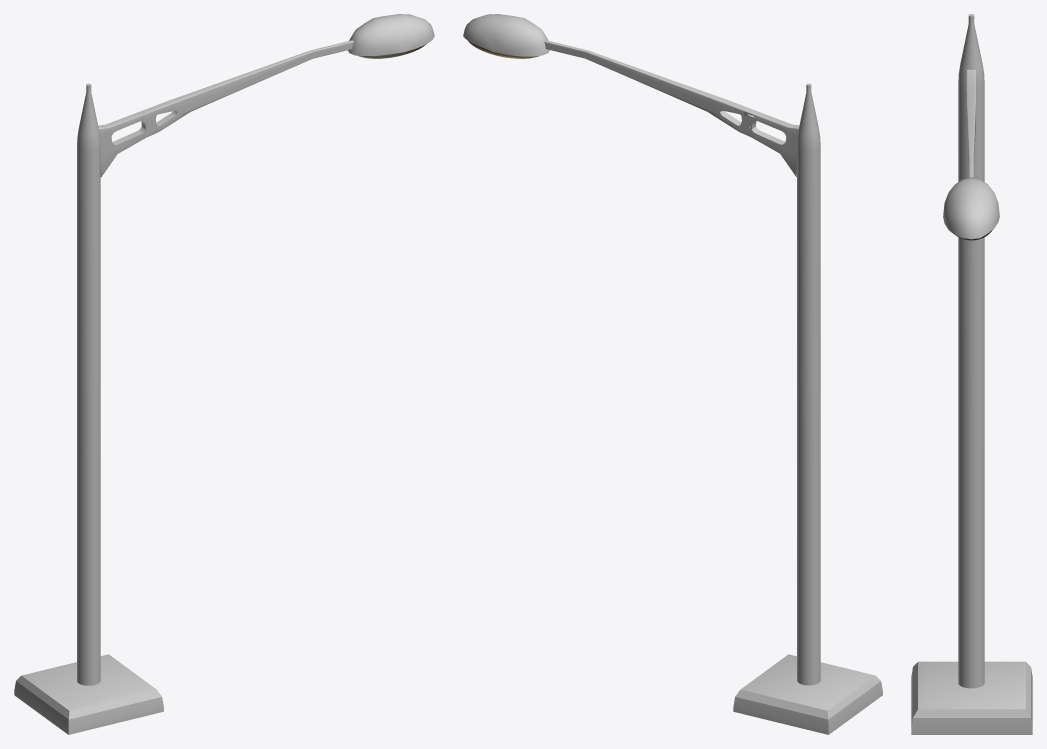
Rendered from street-lamp.FBX.
3 renders of one model, left to right at view 1: azimuth 30°, elevation 25°; view 2: azimuth 150°, elevation 25°; view 3: azimuth 270°, elevation 25°, orthographic. The views are drawn at different scales.
Visible parts, largest first — view 1: Strret Pole; view 2: Strret Pole; view 3: Strret Pole.
Part boxes in pixels (x1=…): Strret Pole: x1=14, y1=14, x2=434, y2=734; Strret Pole: x1=463, y1=14, x2=882, y2=734; Strret Pole: x1=911, y1=14, x2=1032, y2=734.
Size of the model in its own units: 82.9 by 125 by 19.93.
